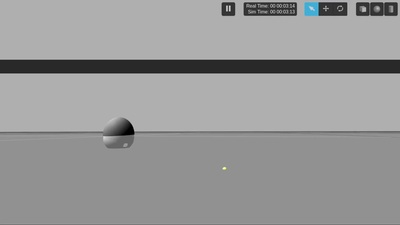mira_robot: (102, 116, 135, 148)
